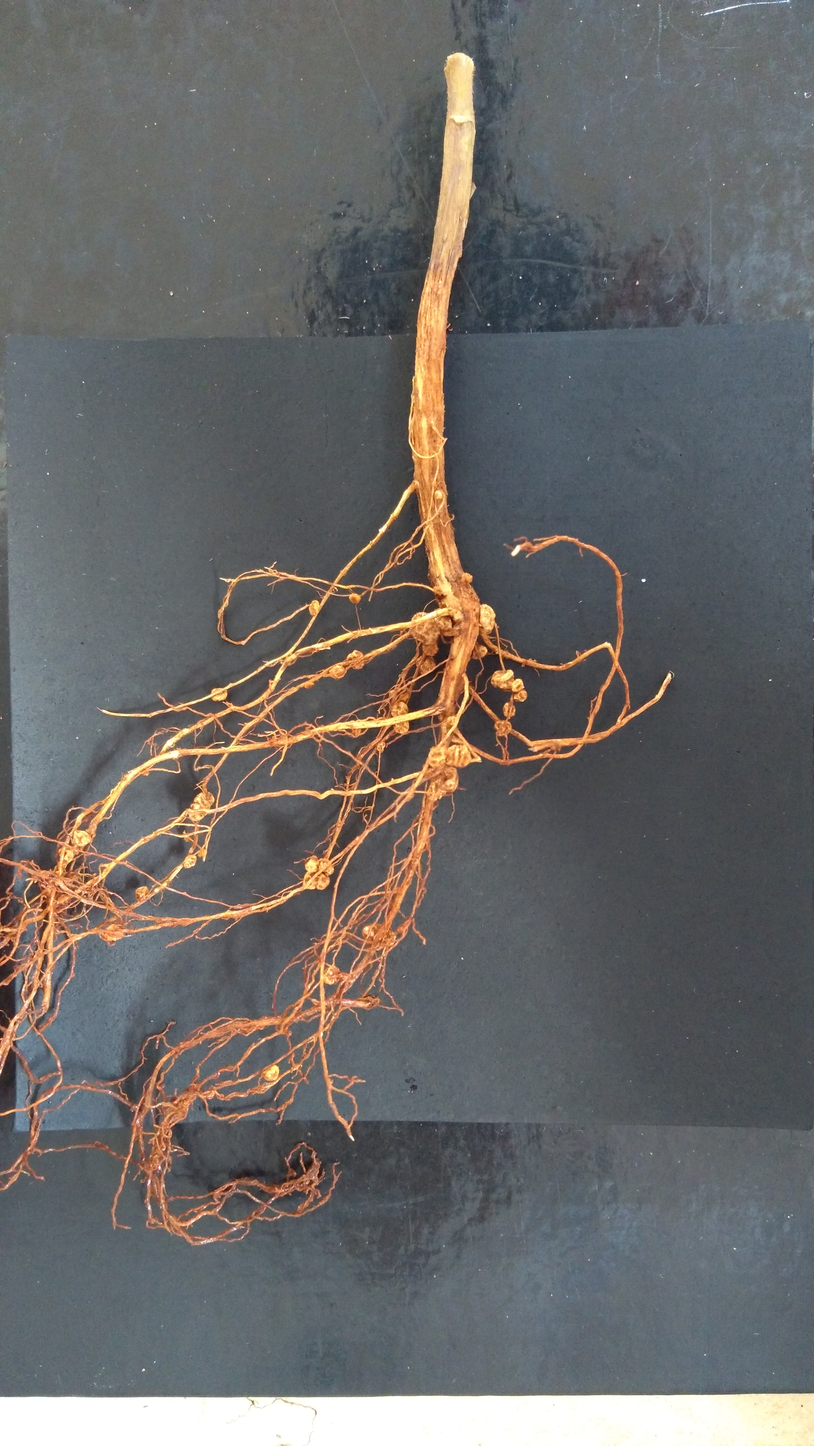nodule: (409, 608, 441, 646), (187, 790, 216, 823), (360, 922, 398, 947), (476, 602, 497, 637), (446, 743, 473, 770), (489, 667, 517, 693), (439, 765, 460, 796), (414, 654, 438, 677), (432, 607, 453, 633), (345, 649, 367, 672), (427, 778, 449, 801), (259, 1062, 281, 1083), (321, 965, 343, 986), (427, 745, 447, 768), (469, 641, 489, 662), (103, 923, 125, 942), (72, 828, 92, 848), (389, 700, 409, 719), (314, 871, 332, 892), (493, 719, 512, 738), (56, 845, 75, 864), (317, 857, 335, 877), (327, 664, 348, 681), (302, 869, 317, 892), (209, 686, 229, 703), (419, 642, 440, 658), (303, 854, 320, 873), (133, 884, 150, 903), (511, 688, 529, 703), (502, 701, 517, 719), (392, 720, 410, 735), (510, 677, 526, 693), (182, 853, 198, 869), (307, 599, 321, 617), (348, 593, 363, 606), (461, 571, 474, 585), (376, 740, 387, 753), (302, 680, 316, 690), (196, 847, 208, 858), (433, 489, 444, 501), (445, 715, 458, 725)
